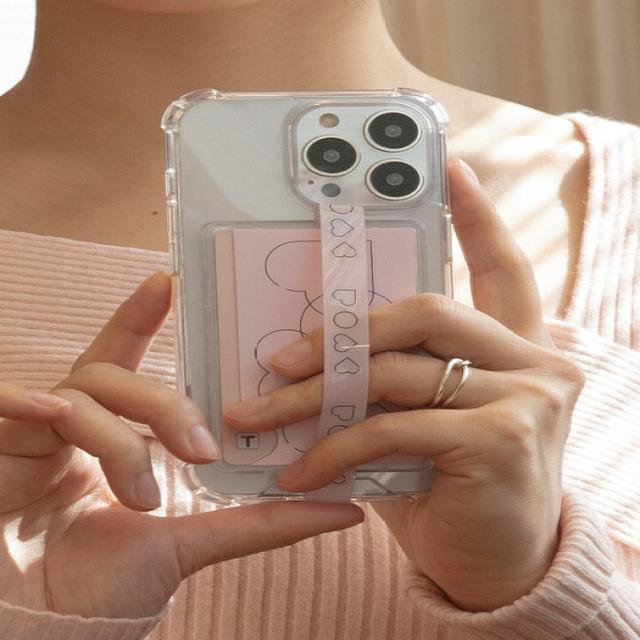phone: (162, 86, 454, 501)
